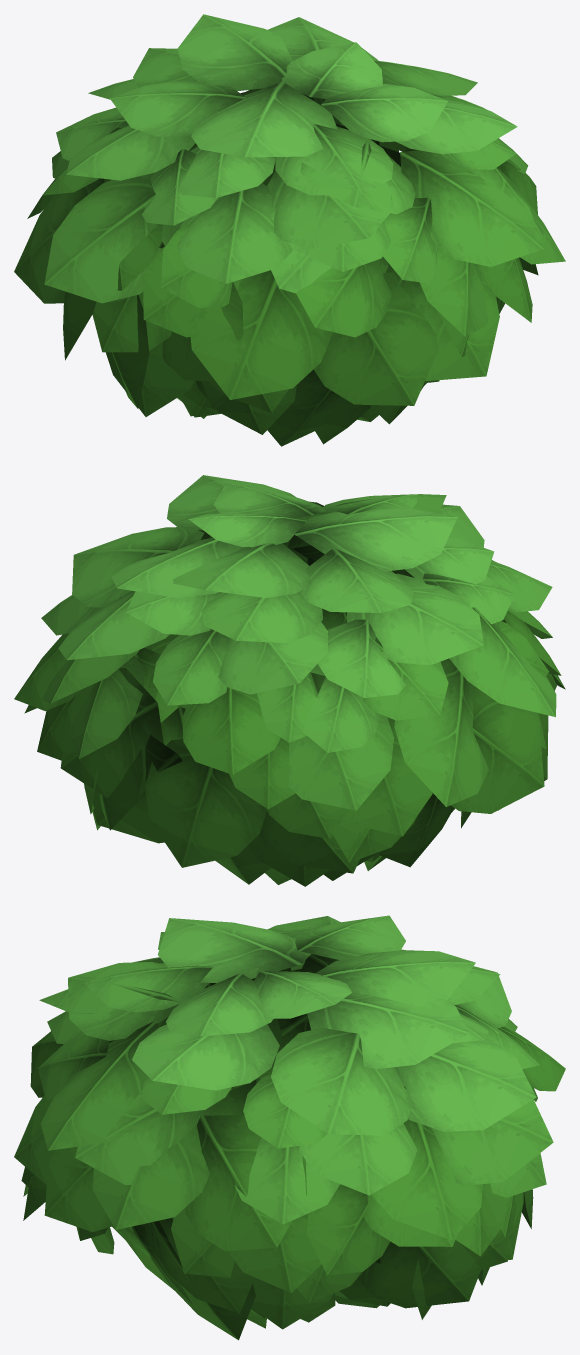
3 renders of one model, top to bottom at view 1: azimuth 30°, elevation 25°; view 2: azimuth 150°, elevation 25°; view 3: azimuth 270°, elevation 25°, orthographic. The views are drawn at different scales.
Visible parts, largest first — view 1: grid_5_leaves_LOD0; view 2: grid_5_leaves_LOD0; view 3: grid_5_leaves_LOD0.
Boxes of the visible parts, bbox=[...] form: grid_5_leaves_LOD0: bbox=[14, 14, 565, 446]; grid_5_leaves_LOD0: bbox=[14, 475, 565, 886]; grid_5_leaves_LOD0: bbox=[14, 915, 565, 1340].
Size of what is drawn, in the model's own units: 1.44 by 0.927 by 1.35.
1 material, 1 textured.
